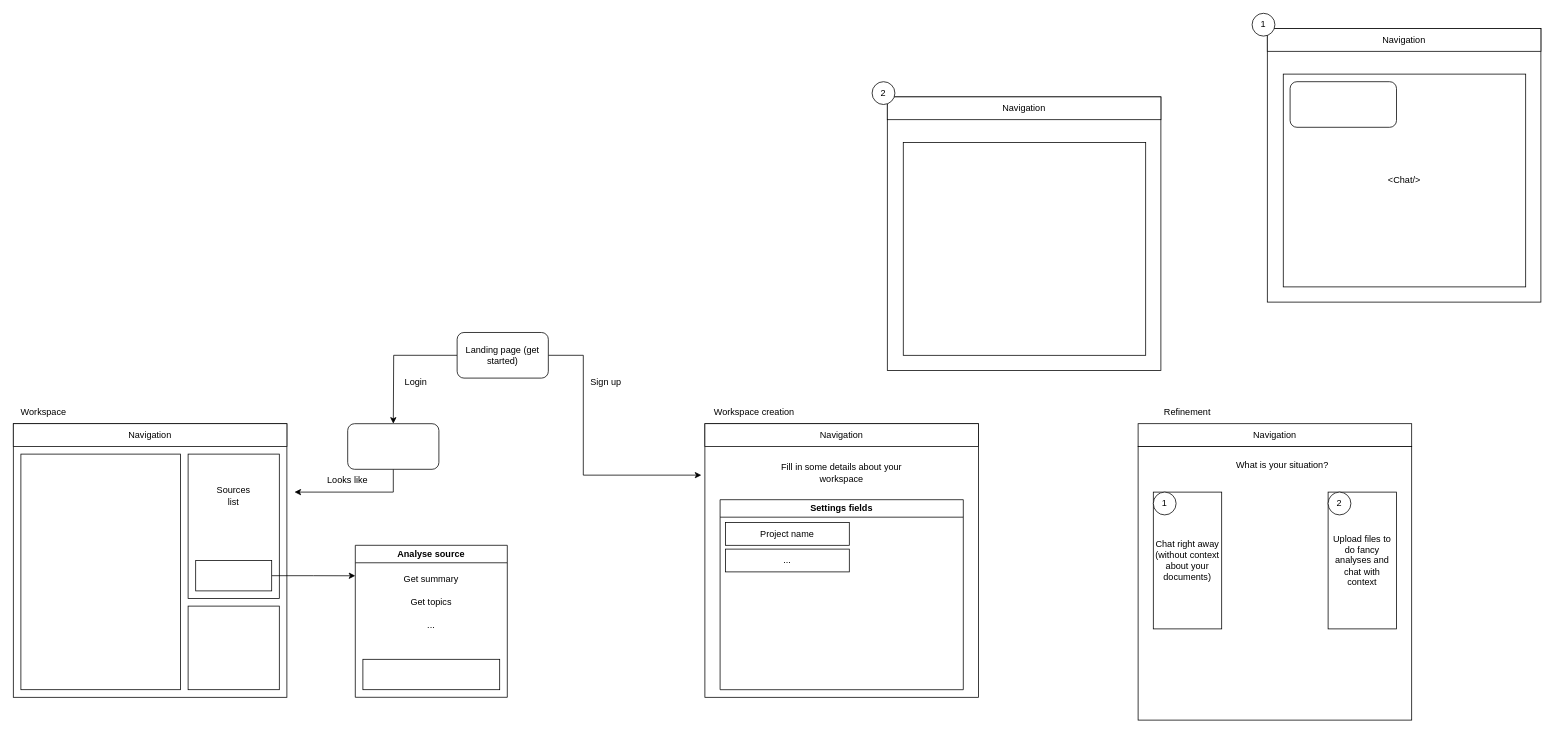
Image size: 1554x733. Some labels were removed from this diagram. Each missing label, with the centre of its shape:
<Upload/>: point (1024, 248)
Add to document in editor: point (431, 674)
Chat: point (233, 647)
Personal dashboard: point (393, 446)
Source 1: point (233, 575)
What is are the topics in your workspace?: point (1342, 104)
WYSIWYG editor: point (100, 571)
